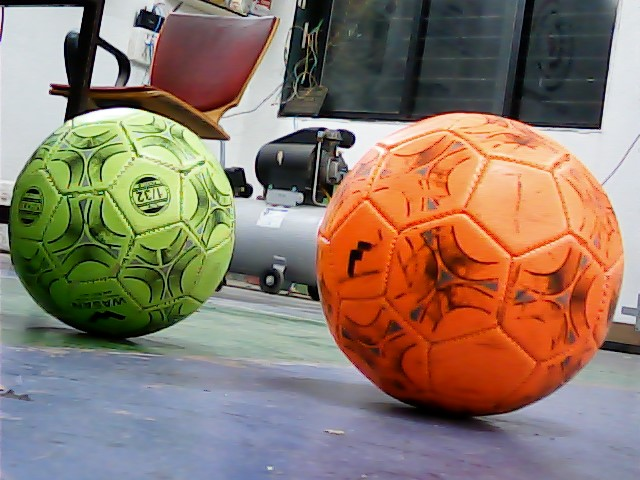Green_ball: (3, 107, 248, 345)
Orange_ball: (312, 111, 640, 430)
